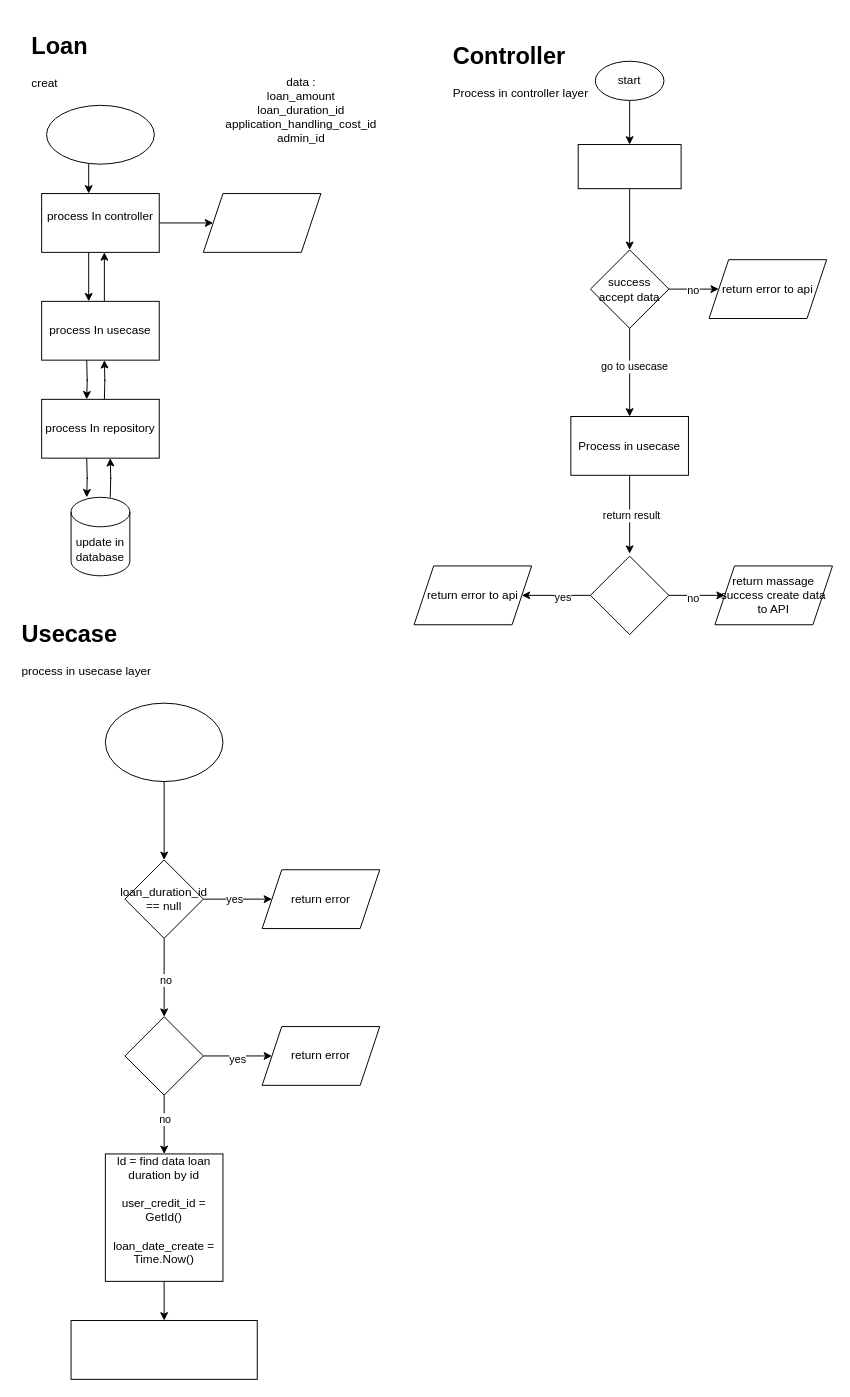
Image size: 850x1397. Some labels were removed from this diagram. Each missing label, with the box of its shape:
Accepting data in request body: (577, 144, 681, 189)
appCost = find data application_handling_cost_by_id: (70, 1320, 257, 1379)
data: (104, 702, 223, 782)
get error resutl?: (589, 555, 669, 635)
hit endpoint with data: (46, 104, 154, 164)
loan_amount == null: (124, 1016, 203, 1095)
return api: (202, 193, 321, 252)
